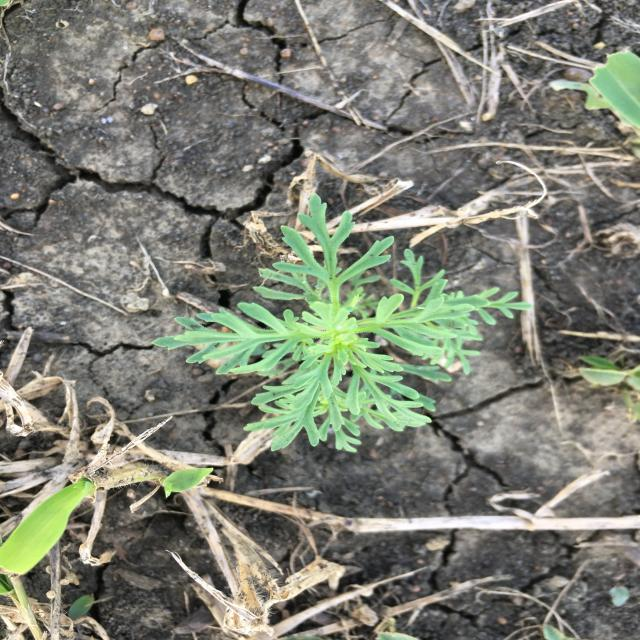Ragweed: (146, 190, 538, 456)
